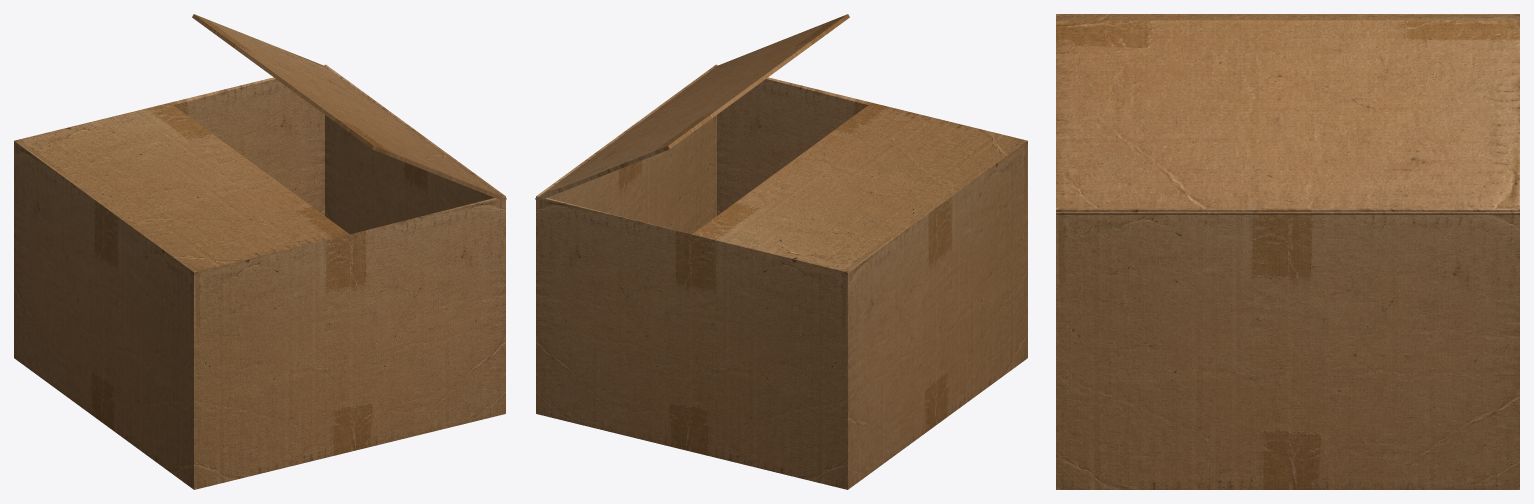
The model's file is Kardus2.fbx.
3 views of the same model, side by side, from view 1: azimuth 30°, elevation 25°; view 2: azimuth 150°, elevation 25°; view 3: azimuth 270°, elevation 25° (orthographic). The views are drawn at different scales.
Visible parts, largest first — view 1: Kardus2; view 2: Kardus2; view 3: Kardus2.
Part boxes in pixels (left/top/right/bottom): Kardus2: left=14, top=14, right=506, bottom=489; Kardus2: left=535, top=14, right=1027, bottom=489; Kardus2: left=1056, top=14, right=1519, bottom=489.
Bounding box in the file's own units: 92.25 × 84.63 × 92.01.
